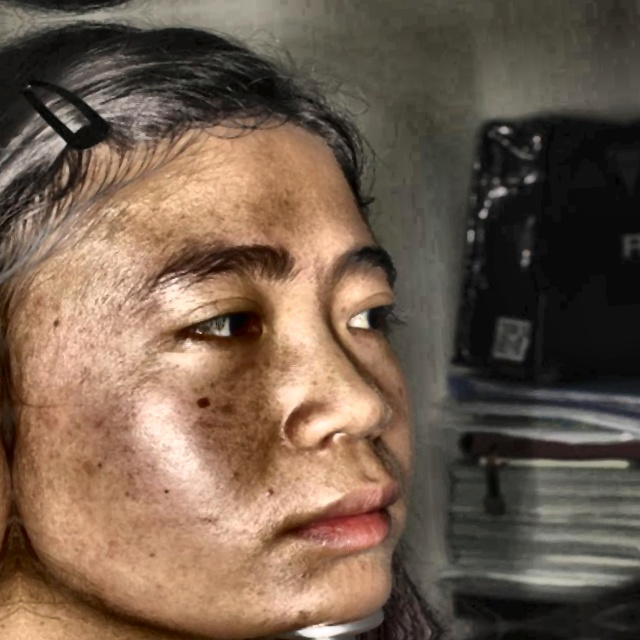comedone: (299, 607, 318, 622)
